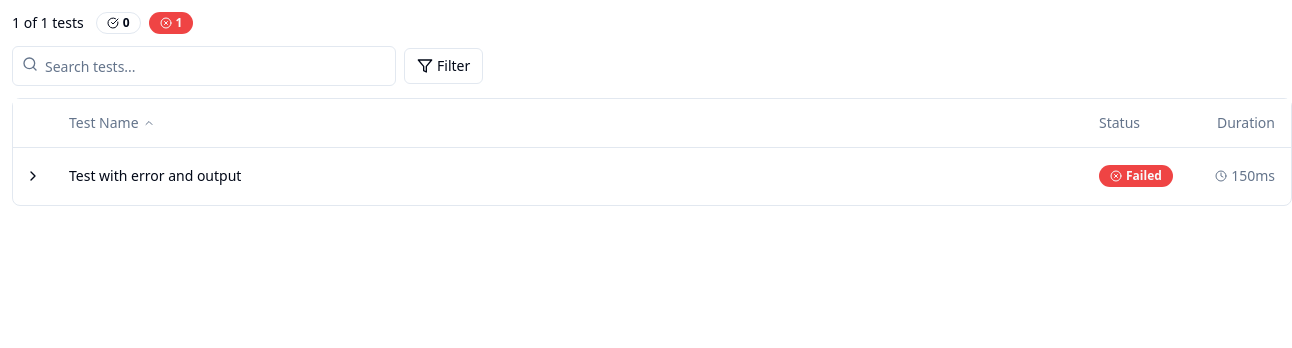
Scenario: TestResultsTable › Expanded Row Content › switches to stdout tab when clicked
Step 1. Click the text "Test with error and output" → [155, 176], box [13,147,1291,204]
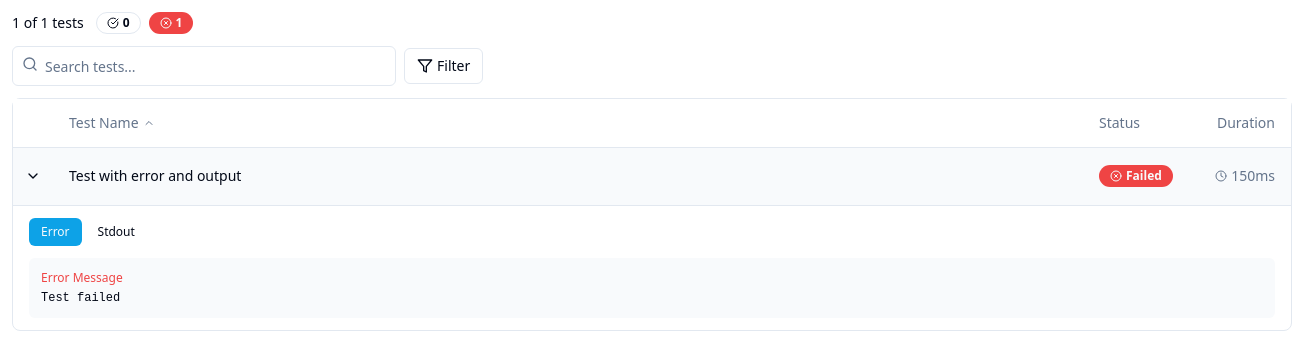
Check: the text "Error Message" is shown, box [41,268,123,286]
# Click stdout tab
Step 2. Click the button "Stdout" → [116, 232], box [86,218,147,246]
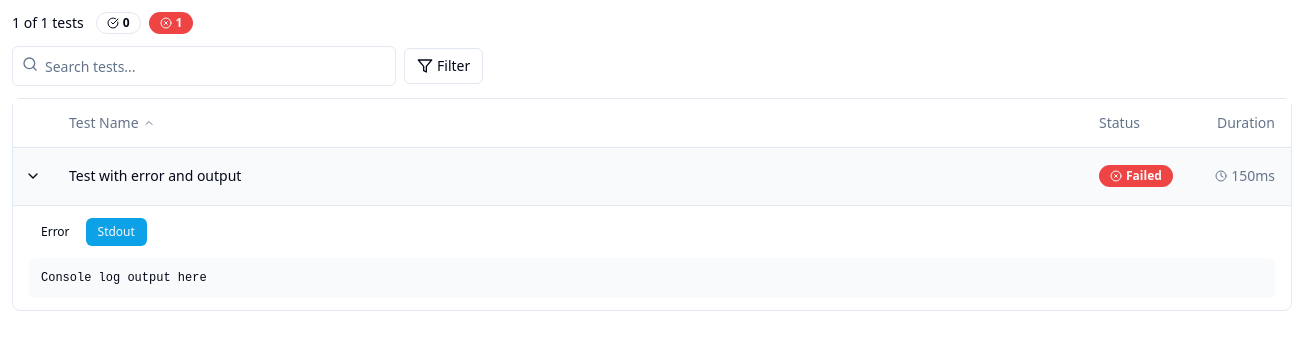
Check: the text "Console log output here" is shown, box [41,270,207,284]
